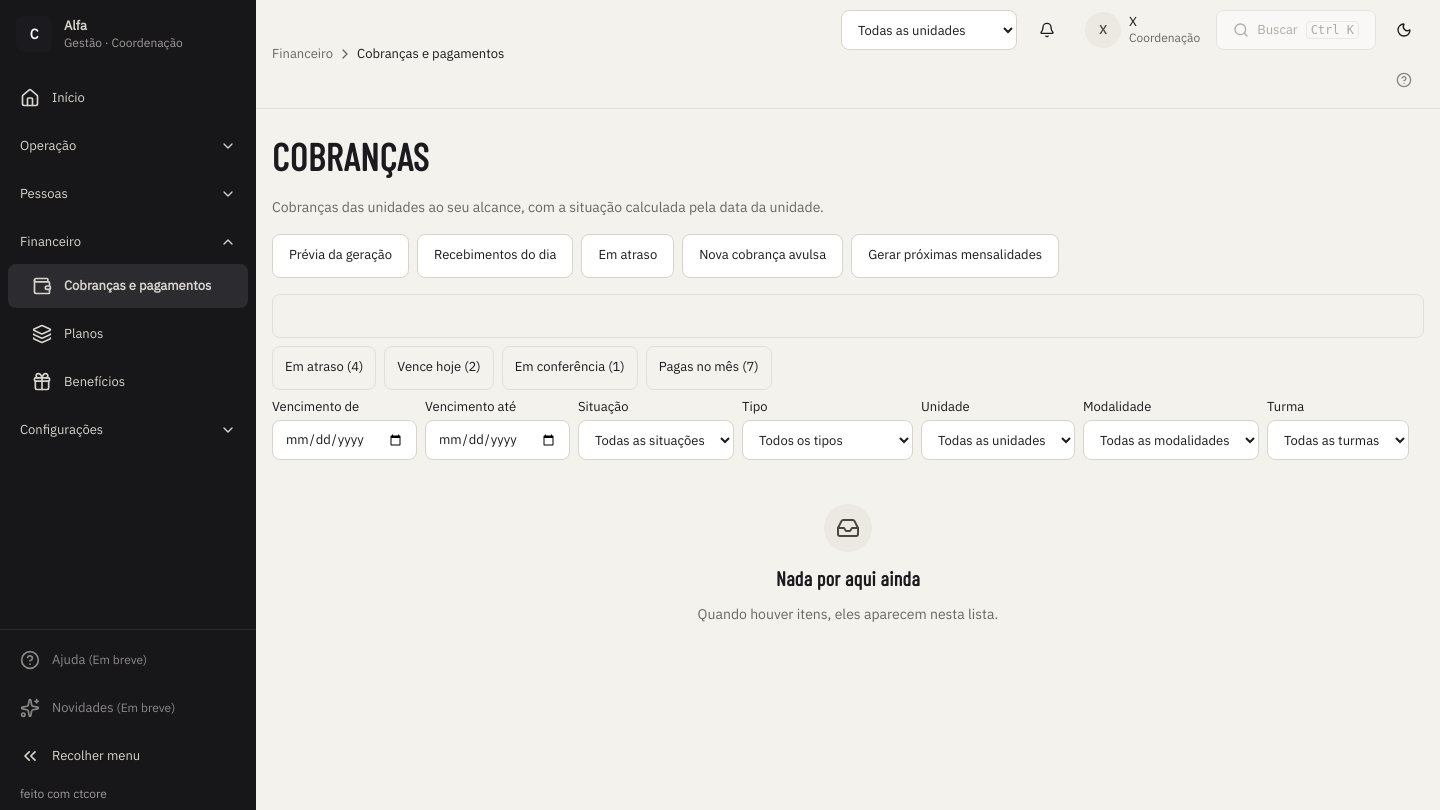
Scenario: ChargesPage (RF-COB-01) › CA17: vazio (com limpar filtros quando há filtro), erro com tentar de novo, sem permissão e carregando
Check: the heading "Nada por aqui ainda" is shown, box [776, 564, 920, 592]
Click the button "Em atraso (4)": click(324, 368) [272, 346, 376, 390]
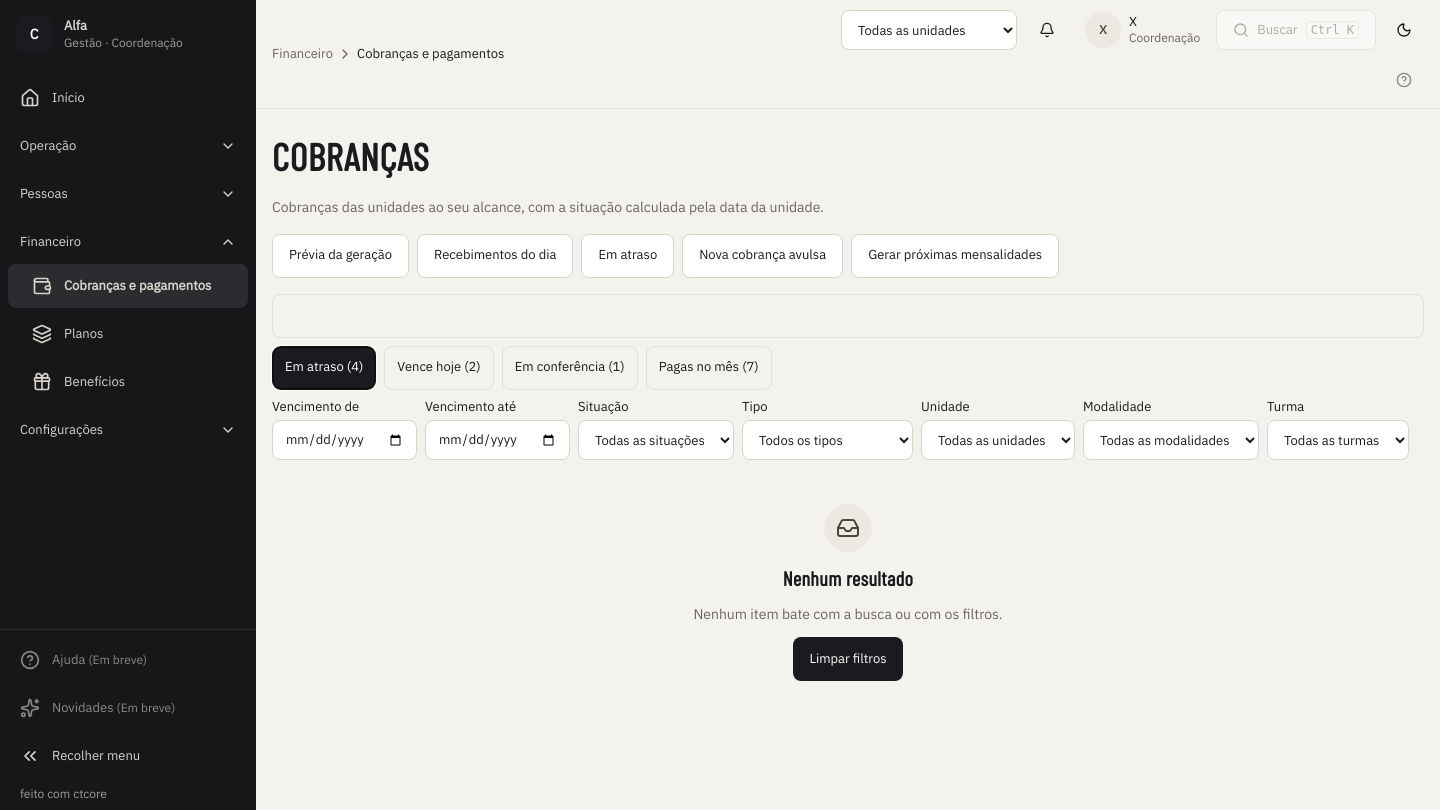
Check: the button "Limpar filtros" is shown, box [793, 637, 903, 681]
